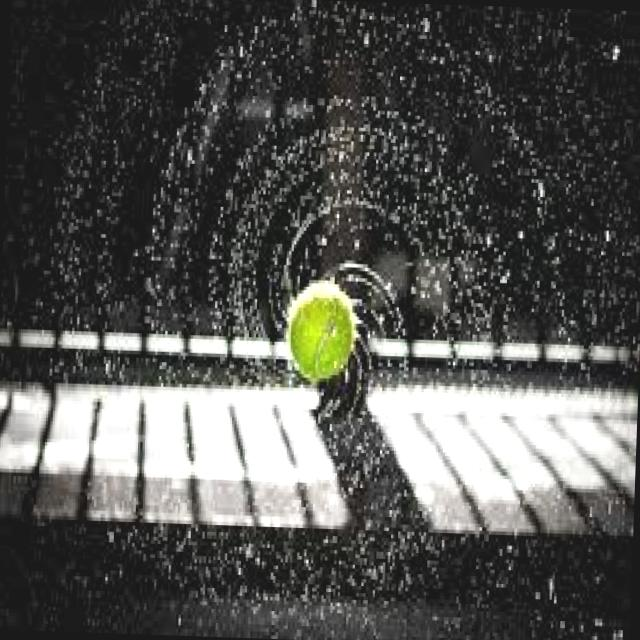Tennis Ball: (287, 288, 353, 375)
